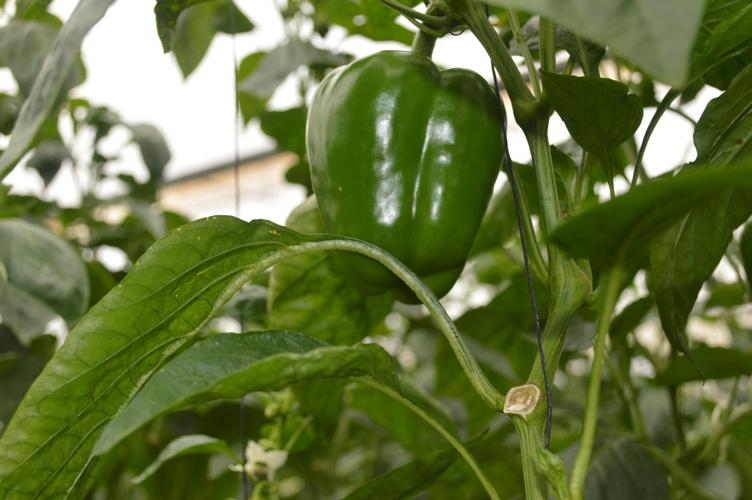BellPepper: (305, 51, 504, 301)
